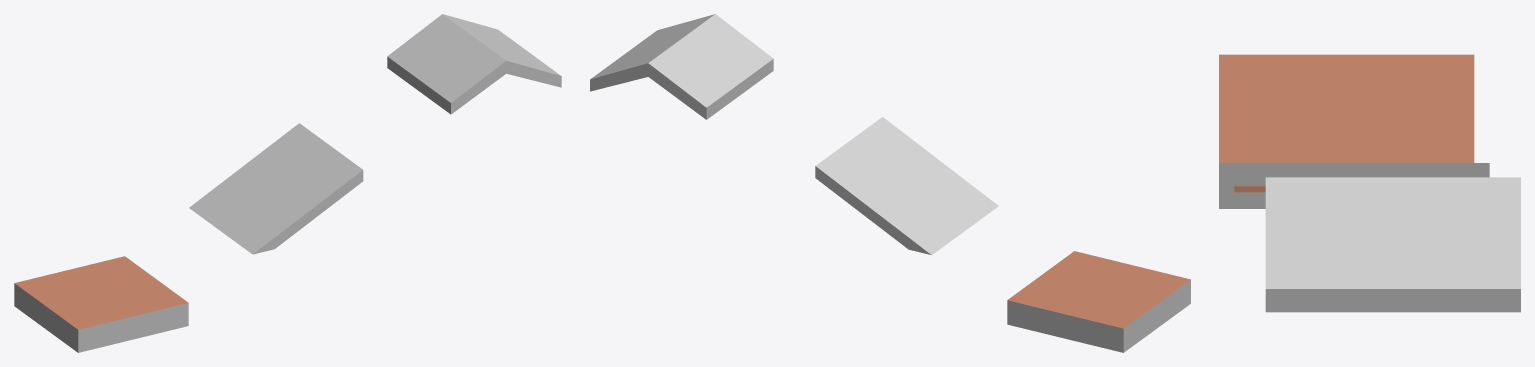
File: Wooden_firstscene_arrayfbx.fbx
The picture shows the model from 3 angles, left to right: view 1: azimuth 30°, elevation 25°; view 2: azimuth 150°, elevation 25°; view 3: azimuth 270°, elevation 25°; orthographic projection. The views are drawn at different scales.
Parts seen in each view (by area): view 1: Wooden_floor_1x0.2x1_proxy.017, Wooden_floor_1x0.2x1_proxy.018, Wooden_floor_1x0.2x1_proxy.016; view 2: Wooden_floor_1x0.2x1_proxy.017, Wooden_floor_1x0.2x1_proxy.018, Wooden_floor_1x0.2x1_proxy.016; view 3: Wooden_floor_1x0.2x1_proxy.016, Wooden_floor_1x0.2x1_proxy.018, Wooden_floor_1x0.2x1_proxy.017.
Part boxes in pixels (left/top/right/bottom): Wooden_floor_1x0.2x1_proxy.017: left=189, top=123, right=363, bottom=254; Wooden_floor_1x0.2x1_proxy.018: left=14, top=256, right=188, bottom=352; Wooden_floor_1x0.2x1_proxy.016: left=387, top=14, right=561, bottom=114; Wooden_floor_1x0.2x1_proxy.017: left=815, top=117, right=998, bottom=255; Wooden_floor_1x0.2x1_proxy.018: left=1007, top=251, right=1190, bottom=352; Wooden_floor_1x0.2x1_proxy.016: left=590, top=14, right=773, bottom=119; Wooden_floor_1x0.2x1_proxy.016: left=1265, top=177, right=1520, bottom=312; Wooden_floor_1x0.2x1_proxy.018: left=1219, top=54, right=1474, bottom=208; Wooden_floor_1x0.2x1_proxy.017: left=1234, top=163, right=1489, bottom=192.
Size of the model in its own units: 448 by 152 by 118.
